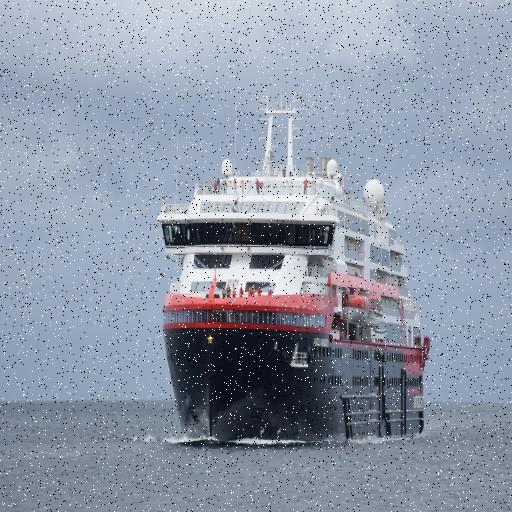cruises: (153, 88, 432, 469)
